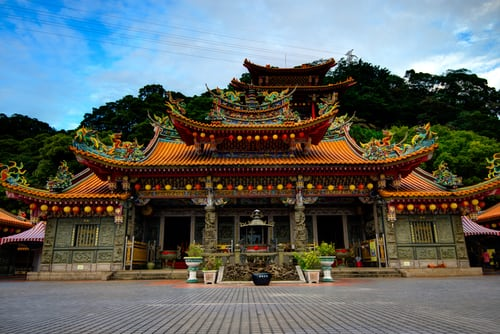Temple: (19, 64, 488, 253)
